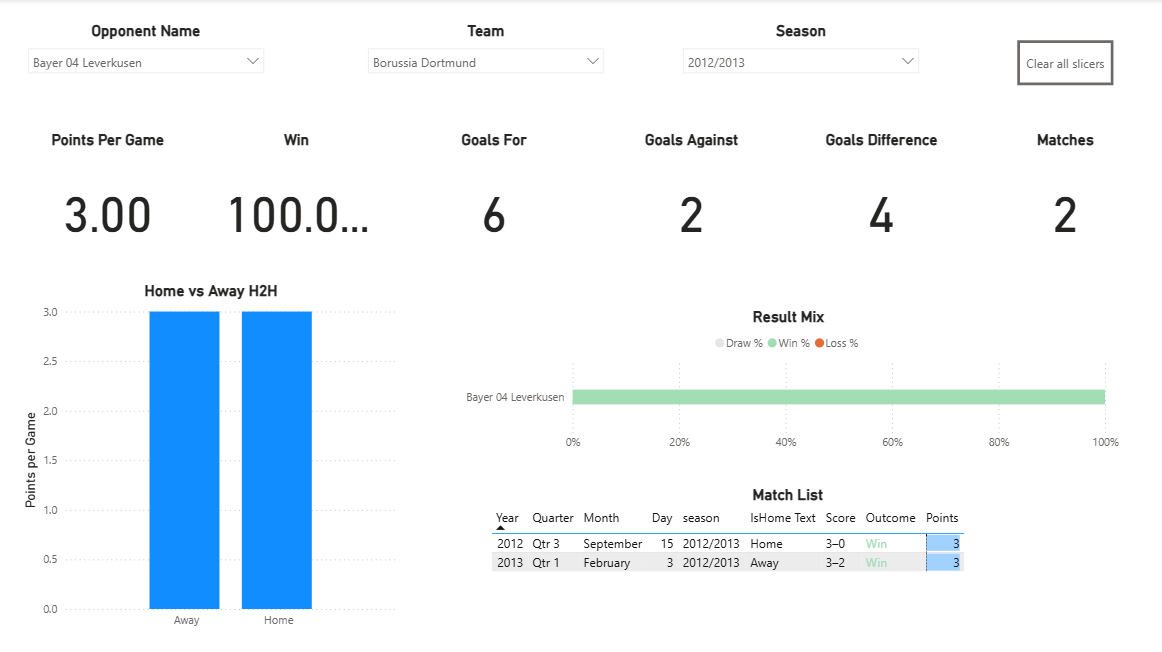

What the dashboard file says about the page in this screenshot:
{"tool":"powerbi","page":{"name":"Head To Head","canvas":[1280,720],"ordinal":4},"visuals":[{"type":"slicer","title":"Opponent Name","fields":{"Values":["TeamMatchFact.Opponent Name"]},"box":[24.7,24.7,279.9,90.6],"z":0},{"type":"slicer","title":"Team","fields":{"Values":["Team.team_long_name"]},"box":[397.9,24.7,279.9,90.6],"z":1000},{"type":"slicer","title":"Season","fields":{"Values":["TeamMatchFact.season"]},"box":[743.7,24.7,279.9,90.6],"z":2000},{"type":"card","title":"Matches ","fields":{"Values":["Measures – Core.Matches (distinct)"]},"box":[1085.7,144.1,177,153.7],"z":3000},{"type":"card","title":"Goals Difference","fields":{"Values":["Measures – Core.Goal Difference"]},"box":[884,144.1,177,153.7],"z":4000},{"type":"card","title":"Goals Against","fields":{"Values":["Measures – Core.Goals Against"]},"box":[675.4,144.1,177,153.7],"z":5000},{"type":"card","title":"Goals For","fields":{"Values":["Measures – Core.Goals For"]},"box":[458.6,144.1,177,153.7],"z":6000},{"type":"card","title":"Points Per Game","fields":{"Values":["Measures – Core.Points per Game"]},"box":[34.6,144.1,177,153.7],"z":7000},{"type":"card","title":"Win","fields":{"Values":["Measures – Core.Win %"]},"box":[241,144.4,177,153.7],"z":8000},{"type":"clusteredColumnChart","title":"Home vs Away H2H","fields":{"Category":["TeamMatchFact.IsHome Text"],"Y":["Measures – Core.Points per Game"]},"box":[24.7,310.1,422.6,389.7],"z":9000},{"type":"hundredPercentStackedBarChart","title":"Result Mix","fields":{"Category":["TeamMatchFact.Opponent Name"],"Y":["Measures – Core.Draw %","Measures – Core.Win %","Measures – Core.Loss %"]},"box":[502.2,338.9,735.5,166],"z":10000},{"type":"tableEx","title":"Match List","fields":{"Values":["TeamMatchFact.date.Variation.Date Hierarchy.Year","TeamMatchFact.date.Variation.Date Hierarchy.Quarter","TeamMatchFact.date.Variation.Date Hierarchy.Month","TeamMatchFact.date.Variation.Date Hierarchy.Day","TeamMatchFact.season","TeamMatchFact.IsHome Text","TeamMatchFact.Score","TeamMatchFact.Outcome","TeamMatchFact.Points"]},"box":[537.9,533.8,662.8,166],"z":11000},{"type":"actionButton","box":[1121.1,45.3,105.7,49.4],"z":12000}]}

Visuals, with their boxes in screenshot pixels (x1, y1, x2, y2), scaled from the page's 1280x720 canvas onto the 1162x652 screenshot:
"Opponent Name" slicer: BBox(22, 22, 277, 104)
"Team" slicer: BBox(361, 22, 615, 104)
"Season" slicer: BBox(675, 22, 929, 104)
"Matches " card: BBox(986, 130, 1146, 270)
"Goals Difference" card: BBox(803, 130, 963, 270)
"Goals Against" card: BBox(613, 130, 774, 270)
"Goals For" card: BBox(416, 130, 577, 270)
"Points Per Game" card: BBox(31, 130, 192, 270)
"Win" card: BBox(219, 131, 379, 270)
"Home vs Away H2H" clusteredColumnChart: BBox(22, 281, 406, 634)
"Result Mix" hundredPercentStackedBarChart: BBox(456, 307, 1124, 457)
"Match List" tableEx: BBox(488, 483, 1090, 634)
actionButton: BBox(1018, 41, 1114, 86)
